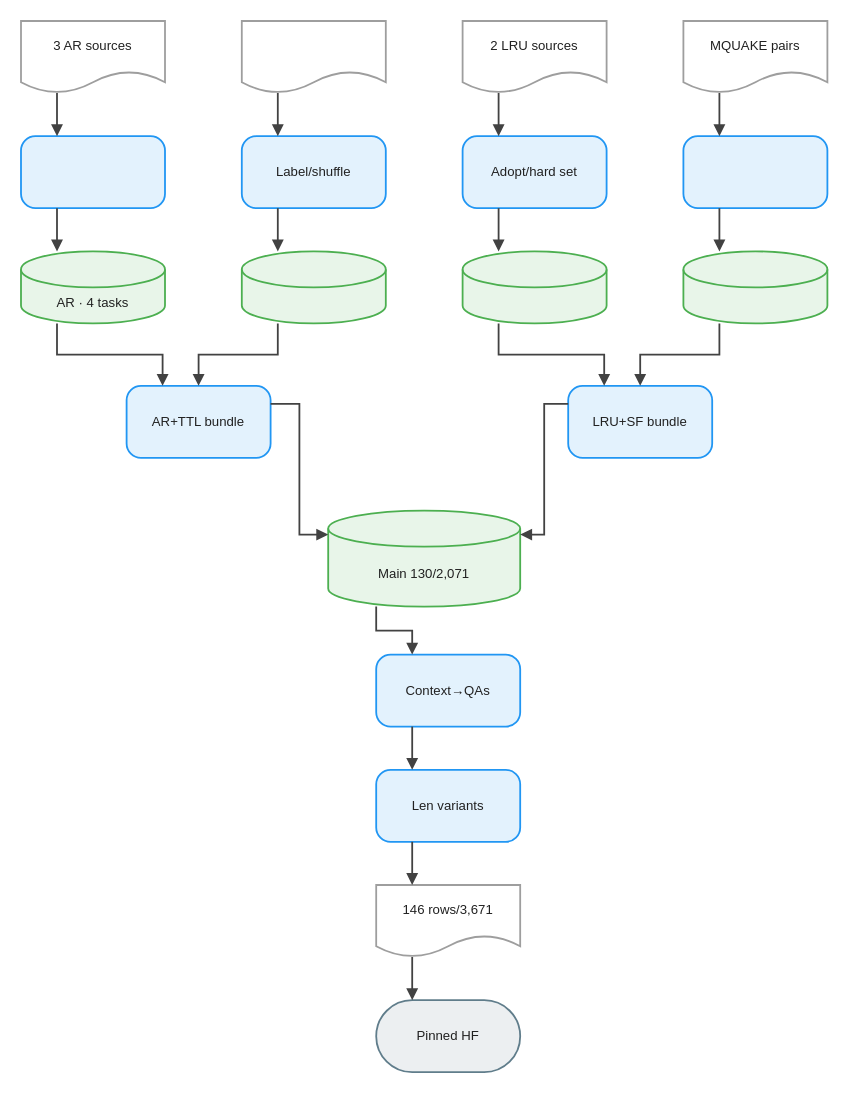
This 850x1094 diagram has some shape labels left out. The shapes that lost their labels are listed below. From the top down, each one's centre as x and y in pixels, then its label:
At (313,56): "6 TTL sources".
At (92,172): "Dedup/order".
At (755,172): "Old→new concat".
At (313,287): "TTL · 6 tasks".
At (534,287): "LRU · 2 tasks".
At (755,287): "SF · 2 tasks".
